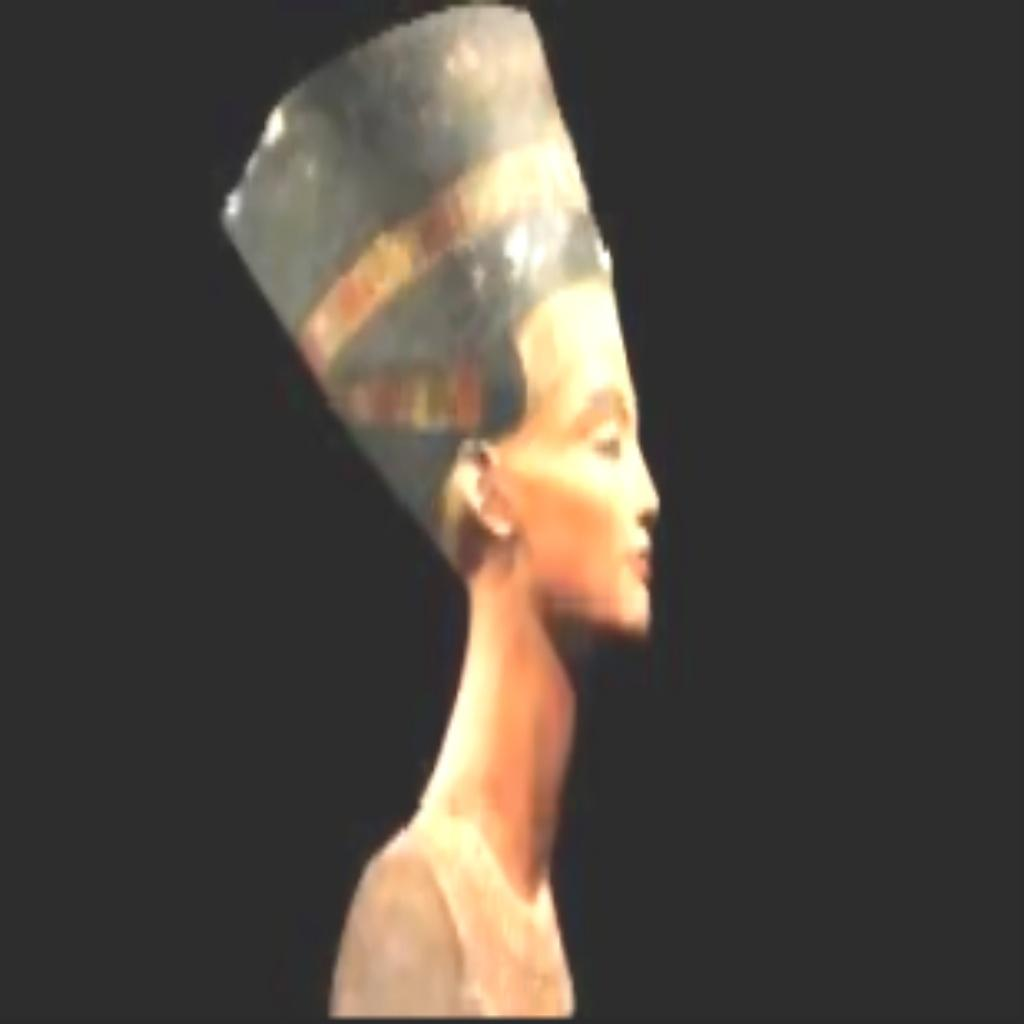Nefertiti: (216, 0, 662, 1011)
